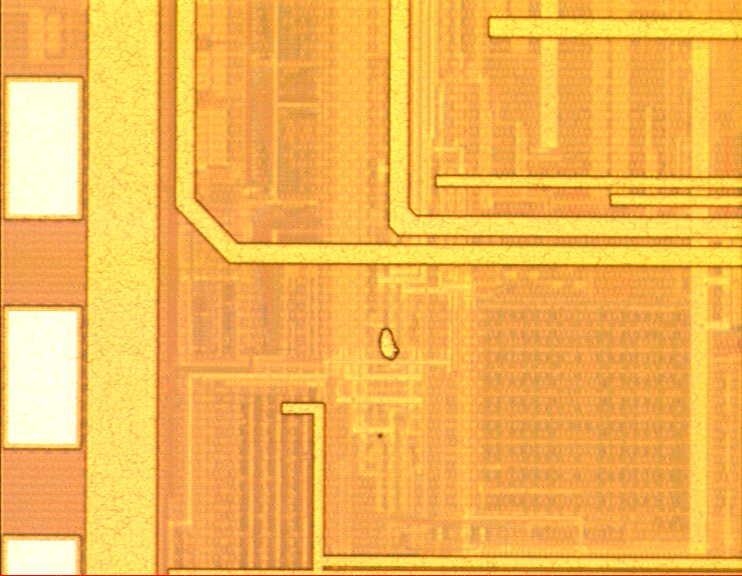BLOCK ETCH: (375, 323, 404, 363)
